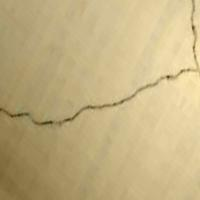crack: (0, 0, 199, 125)
